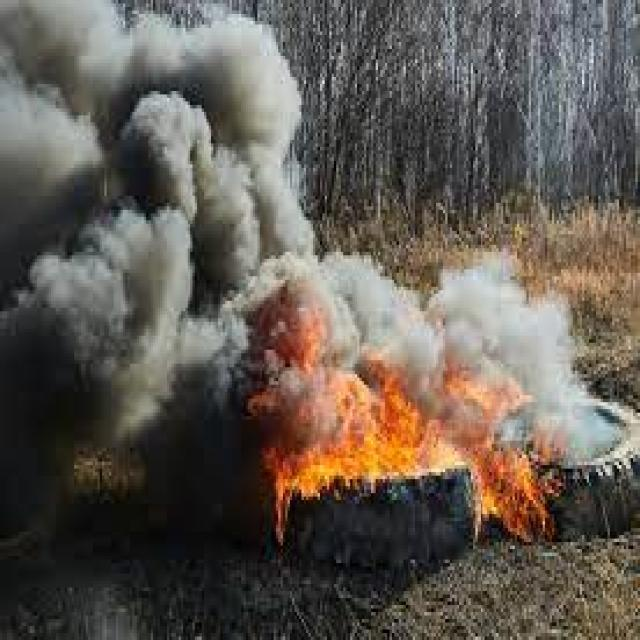Fire: (248, 411, 594, 512)
Smoke: (4, 2, 295, 384), (328, 270, 584, 406)
